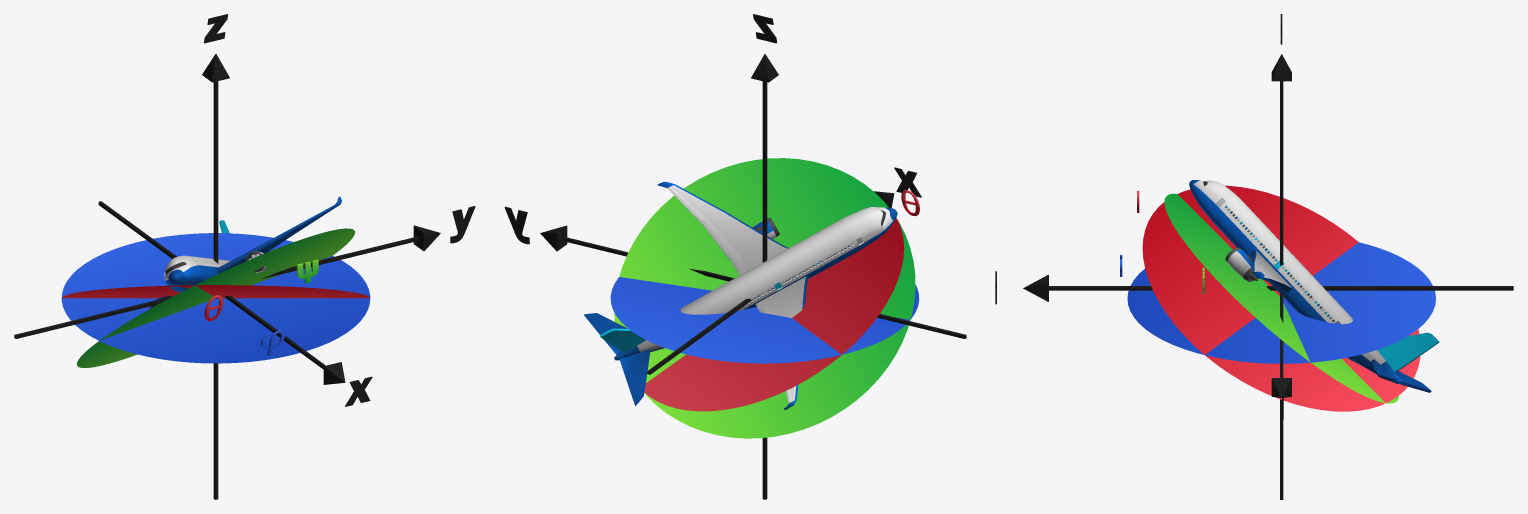
3 renders of one model, left to right at view 1: azimuth 30°, elevation 25°; view 2: azimuth 150°, elevation 25°; view 3: azimuth 270°, elevation 25°, orthographic.
Parts seen in each view (by area): view 1: PlanePhi, Axis_18p, PlanePsi, PlaneTheta, Ariplane_14p; view 2: PlanePsi, Ariplane_14p, PlaneTheta, PlanePhi, Axis_18p; view 3: PlaneTheta, PlanePhi, Ariplane_14p, PlanePsi, Axis_18p.
Boxes of the visible parts, x1,y1,x2,y2 form: PlanePhi: [61, 233, 370, 363]; Axis_18p: [14, 14, 475, 499]; PlanePsi: [77, 228, 355, 367]; PlaneTheta: [62, 285, 369, 298]; Ariplane_14p: [149, 196, 341, 309]; PlanePsi: [614, 158, 915, 438]; Ariplane_14p: [584, 181, 897, 409]; PlaneTheta: [644, 218, 904, 411]; PlanePhi: [610, 277, 919, 363]; Axis_18p: [504, 14, 966, 499]; PlaneTheta: [1142, 185, 1420, 411]; PlanePhi: [1127, 242, 1435, 363]; Ariplane_14p: [1189, 180, 1439, 392]; PlanePsi: [1164, 193, 1398, 403]; Axis_18p: [995, 14, 1513, 499].
Bounding box in the file's own units: 228 × 228 × 223.
